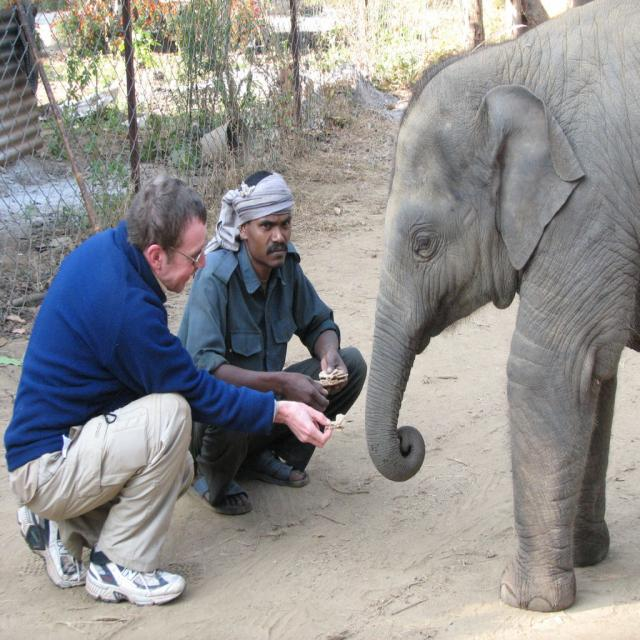Elephant: (362, 0, 640, 613)
